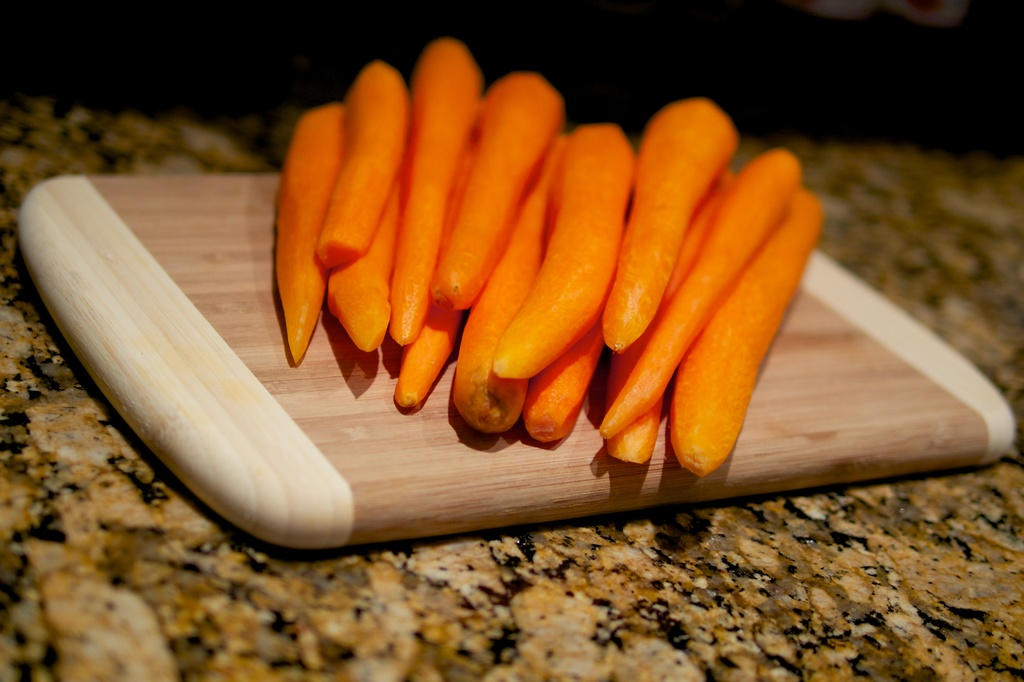Carrot: (275, 36, 824, 478)
